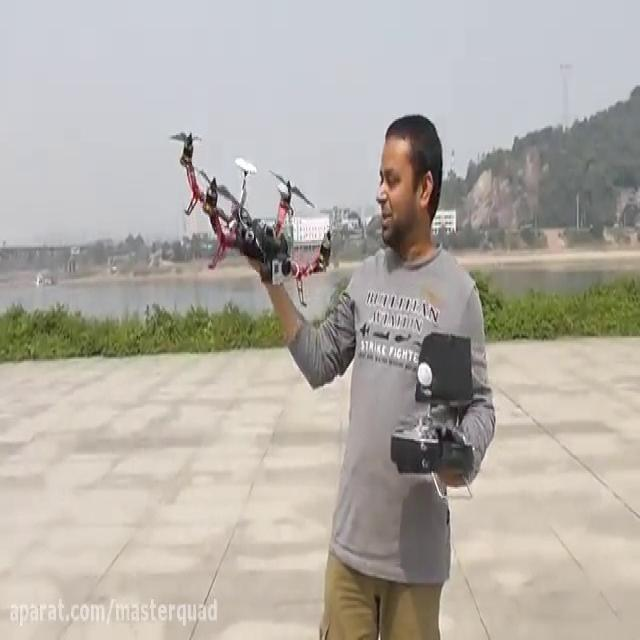drone: (165, 123, 339, 309)
